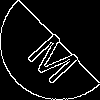M: (25, 25, 89, 86)
